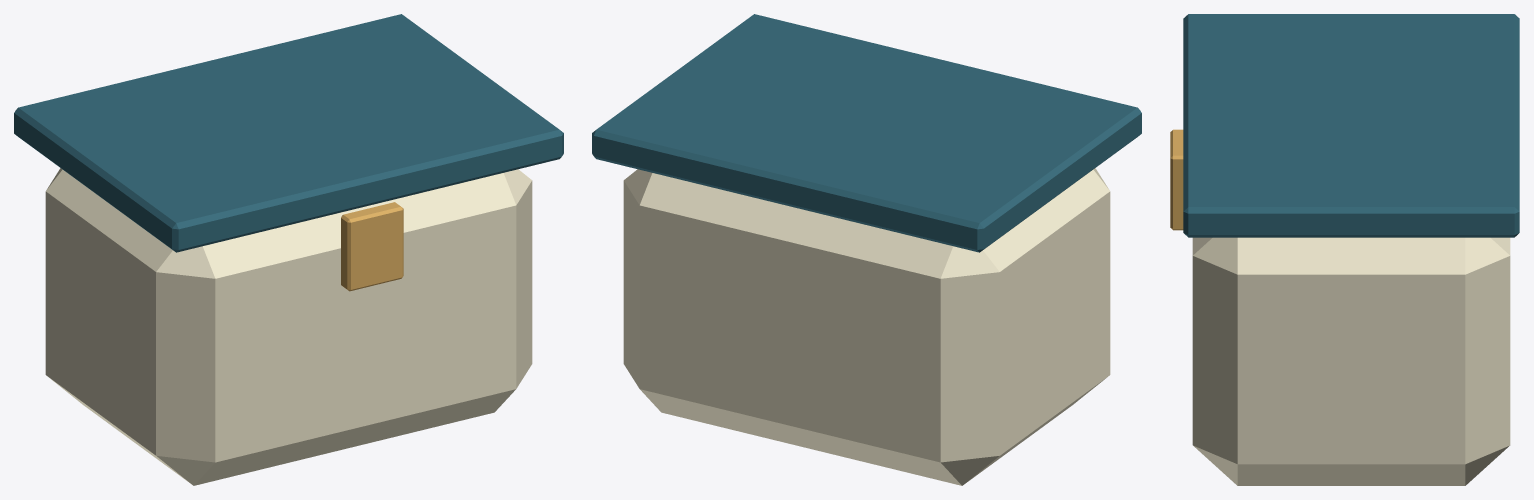
The model's file is deck-locker.glb.
The picture shows the model from 3 angles, left to right: view 1: azimuth 30°, elevation 25°; view 2: azimuth 150°, elevation 25°; view 3: azimuth 270°, elevation 25°; orthographic projection. The views are drawn at different scales.
Parts seen in each view (by area): view 1: bag_deck_locker, bag_deck_lid, bag_deck_latch; view 2: bag_deck_locker, bag_deck_lid; view 3: bag_deck_locker, bag_deck_lid, bag_deck_latch.
Part boxes in pixels (x1,y1,x2,y2): bag_deck_locker: (45,168,532,485); bag_deck_lid: (14,14,563,252); bag_deck_latch: (341,202,403,291); bag_deck_locker: (623,168,1110,485); bag_deck_lid: (592,14,1141,252); bag_deck_locker: (1192,237,1510,485); bag_deck_lid: (1183,14,1519,237); bag_deck_latch: (1170,129,1183,230).
Bounding box in the file's own units: 1.25 × 0.885 × 0.935.
